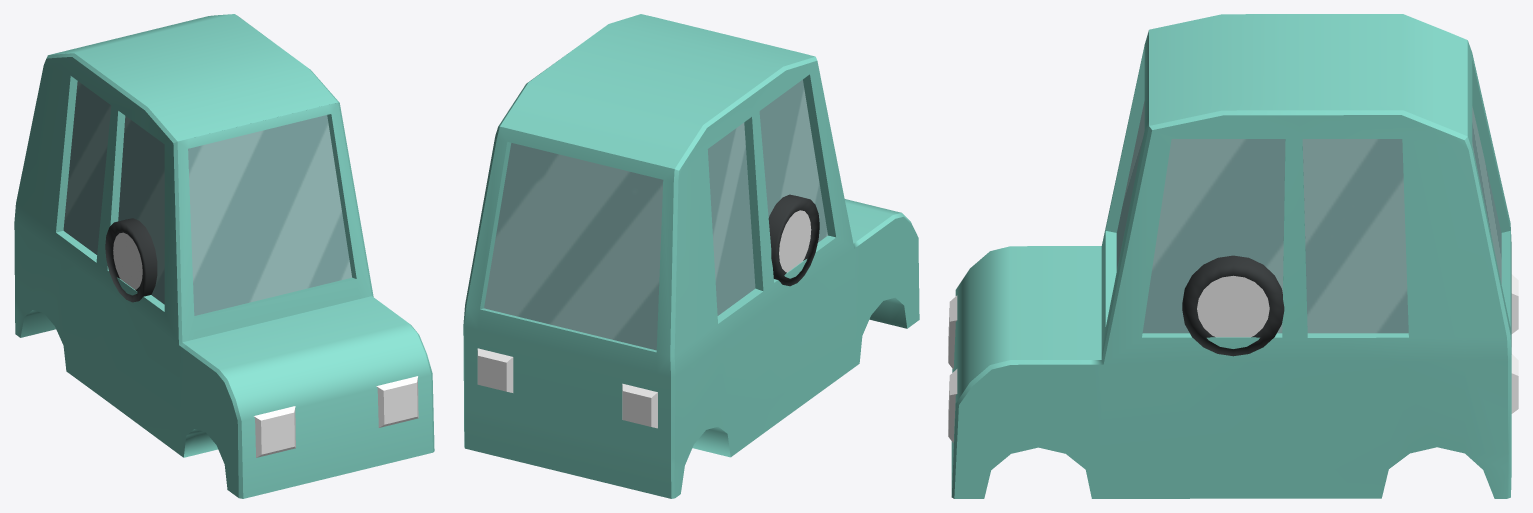
Rendered from car_1_T.fbx.
The picture shows the model from 3 angles, left to right: view 1: azimuth 30°, elevation 25°; view 2: azimuth 150°, elevation 25°; view 3: azimuth 270°, elevation 25°; orthographic projection. The views are drawn at different scales.
Visible parts, largest first — view 1: car_1_chasis_T, car_1_right_wheel_T, car_1_back_wheel_T; view 2: car_1_chasis_T, car_1_right_wheel_T, car_1_back_wheel_T; view 3: car_1_chasis_T, car_1_back_wheel_T.
Boxes of the visible parts, box(x1,y1,x2,y2) form: car_1_chasis_T: box(14, 14, 434, 498); car_1_right_wheel_T: box(105, 219, 157, 302); car_1_back_wheel_T: box(117, 218, 156, 301); car_1_chasis_T: box(463, 14, 919, 498); car_1_right_wheel_T: box(769, 194, 819, 286); car_1_back_wheel_T: box(768, 195, 797, 276); car_1_chasis_T: box(948, 14, 1518, 498); car_1_back_wheel_T: box(1182, 255, 1284, 356).
Bounding box in the file's own units: 76.29 × 115 × 157.
